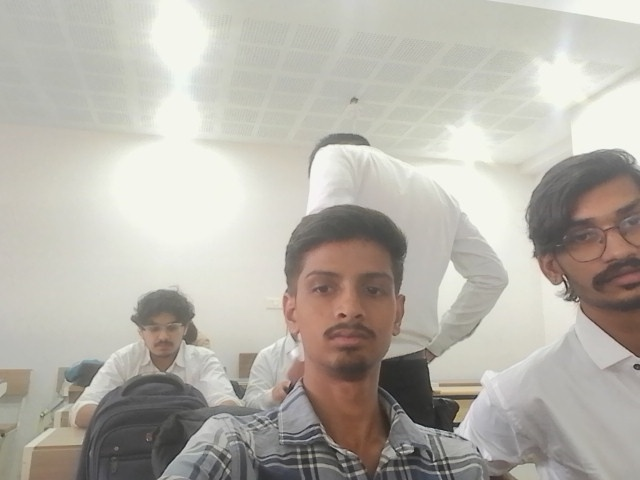fan_on: (339, 94, 369, 155)
light_on: (149, 13, 219, 160), (434, 117, 514, 166), (536, 67, 601, 110)
person: (151, 203, 498, 479), (458, 147, 639, 479), (68, 287, 242, 431)
